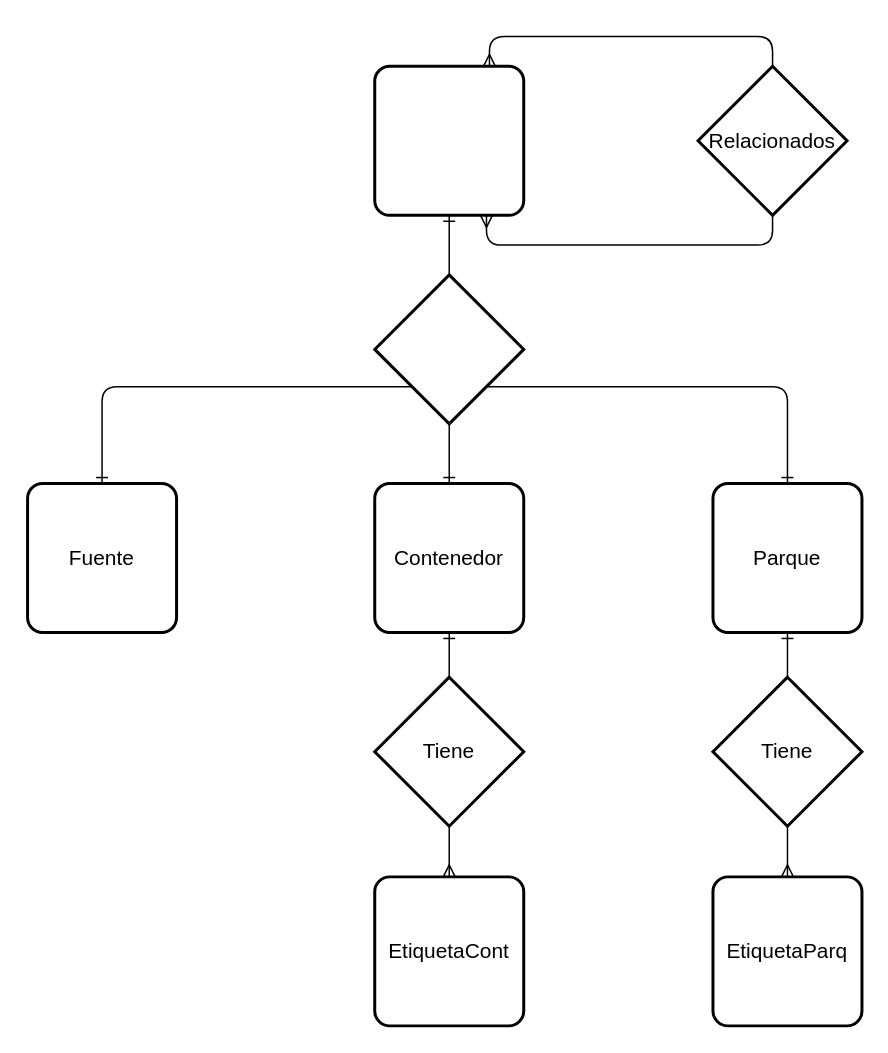
Some shapes in this 888 by 1053 pixel diagram are drawn without their labels. Here are the shapes that lost their labels. From the top down, the centre of each, then its label:
At pixel 448 140: "Elemento".
At pixel 448 349: "Herencia".
